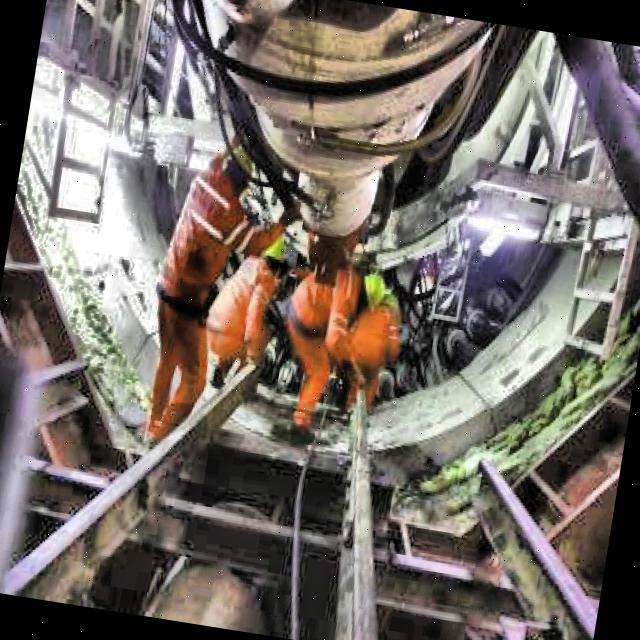helmet: (217, 137, 266, 200), (252, 230, 294, 283), (352, 270, 392, 316)
